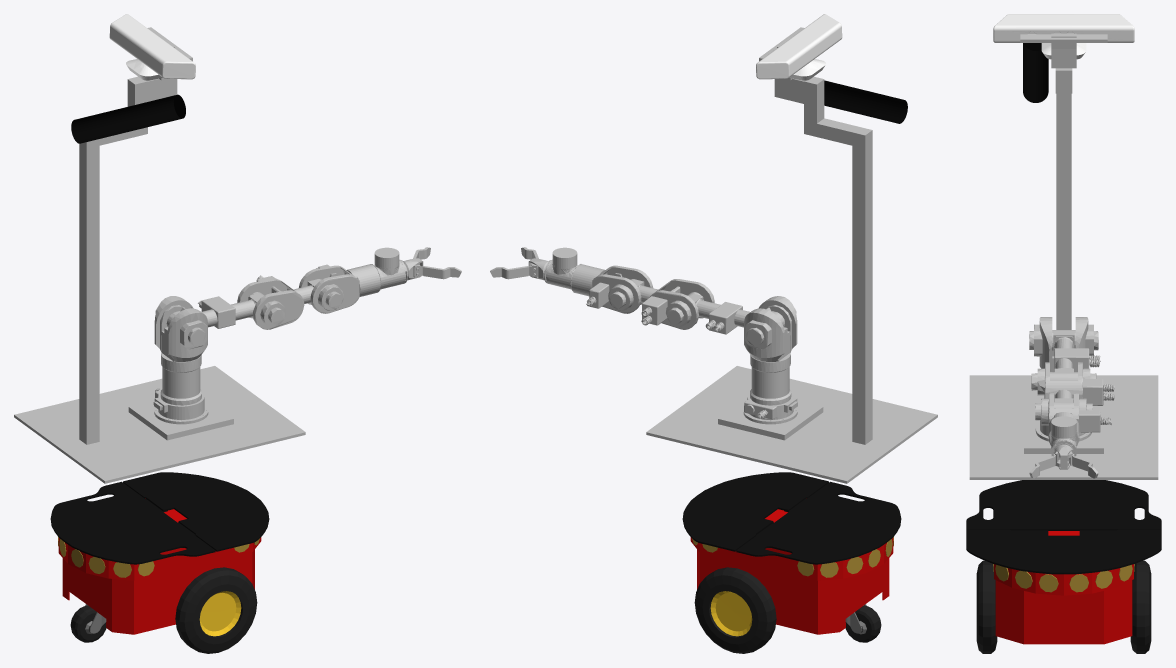
File: kate.dae
3 renders of one model, left to right at view 1: azimuth 30°, elevation 25°; view 2: azimuth 150°, elevation 25°; view 3: azimuth 270°, elevation 25°, orthographic. The views are drawn at different scales.
Parts seen in each view (by area): view 1: top_plate, kurtana_baseplate_link, base_link, kurtana_pole_link, right_wheel_joint, kinect_link, katana_base_link, kurtana_microphone_link, katana_motor1_pan_link, katana_motor4_lift_link, katana_motor3_lift_link, katana_baseplate_link (+4 smaller); view 2: top_plate, kurtana_baseplate_link, base_link, kurtana_pole_link, left_wheel_joint, kinect_link, katana_base_link, katana_motor4_lift_link, katana_motor1_pan_link, katana_motor3_lift_link, kurtana_microphone_link, katana_baseplate_link (+7 smaller); view 3: top_plate, kurtana_baseplate_link, base_link, kinect_link, kurtana_pole_link, katana_motor3_lift_link, left_wheel_joint, right_wheel_joint, katana_motor1_pan_link, katana_motor4_lift_link, katana_motor2_lift_link, back_sonar (+9 smaller).
Part boxes in pixels (<box>): top_plate: <box>50,472,269,564</box>; kurtana_baseplate_link: <box>14,366,305,483</box>; base_link: <box>58,498,261,634</box>; kurtana_pole_link: <box>79,139,99,444</box>; right_wheel_joint: <box>175,567,257,653</box>; kinect_link: <box>109,14,195,80</box>; katana_base_link: <box>153,353,208,424</box>; kurtana_microphone_link: <box>71,94,185,143</box>; katana_motor1_pan_link: <box>154,296,207,361</box>; katana_motor4_lift_link: <box>299,264,381,313</box>; katana_motor3_lift_link: <box>237,275,321,329</box>; katana_baseplate_link: <box>128,398,233,440</box>; top_plate: <box>682,472,901,564</box>; kurtana_baseplate_link: <box>646,366,937,483</box>; base_link: <box>690,498,893,634</box>; kurtana_pole_link: <box>852,127,872,444</box>; left_wheel_joint: <box>694,567,776,653</box>; kinect_link: <box>756,14,842,80</box>; katana_base_link: <box>743,353,797,424</box>; katana_motor4_lift_link: <box>570,264,653,313</box>; katana_motor1_pan_link: <box>744,296,797,361</box>; katana_motor3_lift_link: <box>630,279,714,329</box>; kurtana_microphone_link: <box>824,80,907,123</box>; katana_baseplate_link: <box>718,398,823,440</box>; top_plate: <box>966,480,1161,574</box>; kurtana_baseplate_link: <box>969,375,1158,479</box>; base_link: <box>994,531,1133,644</box>; kinect_link: <box>993,14,1134,59</box>; kurtana_pole_link: <box>1056,110,1071,329</box>; katana_motor3_lift_link: <box>1031,362,1114,408</box>; left_wheel_joint: <box>1130,560,1151,653</box>; right_wheel_joint: <box>976,560,997,653</box>; katana_motor1_pan_link: <box>1029,317,1098,371</box>; katana_motor4_lift_link: <box>1035,392,1111,445</box>; katana_motor2_lift_link: <box>1050,330,1100,379</box>; back_sonar: <box>993,564,1134,592</box>.
Size of the model in its own units: 0.9052 by 0.3812 by 1.32.
